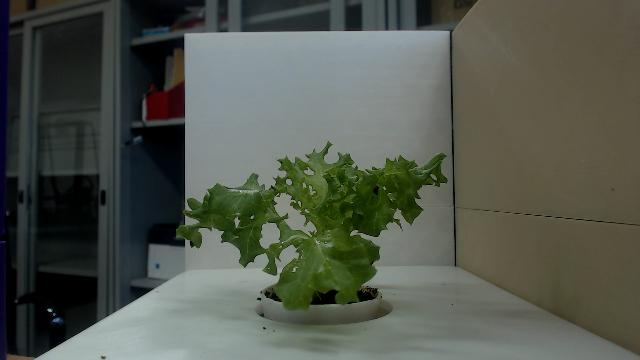Vegetative Stage: (175, 138, 449, 314)
